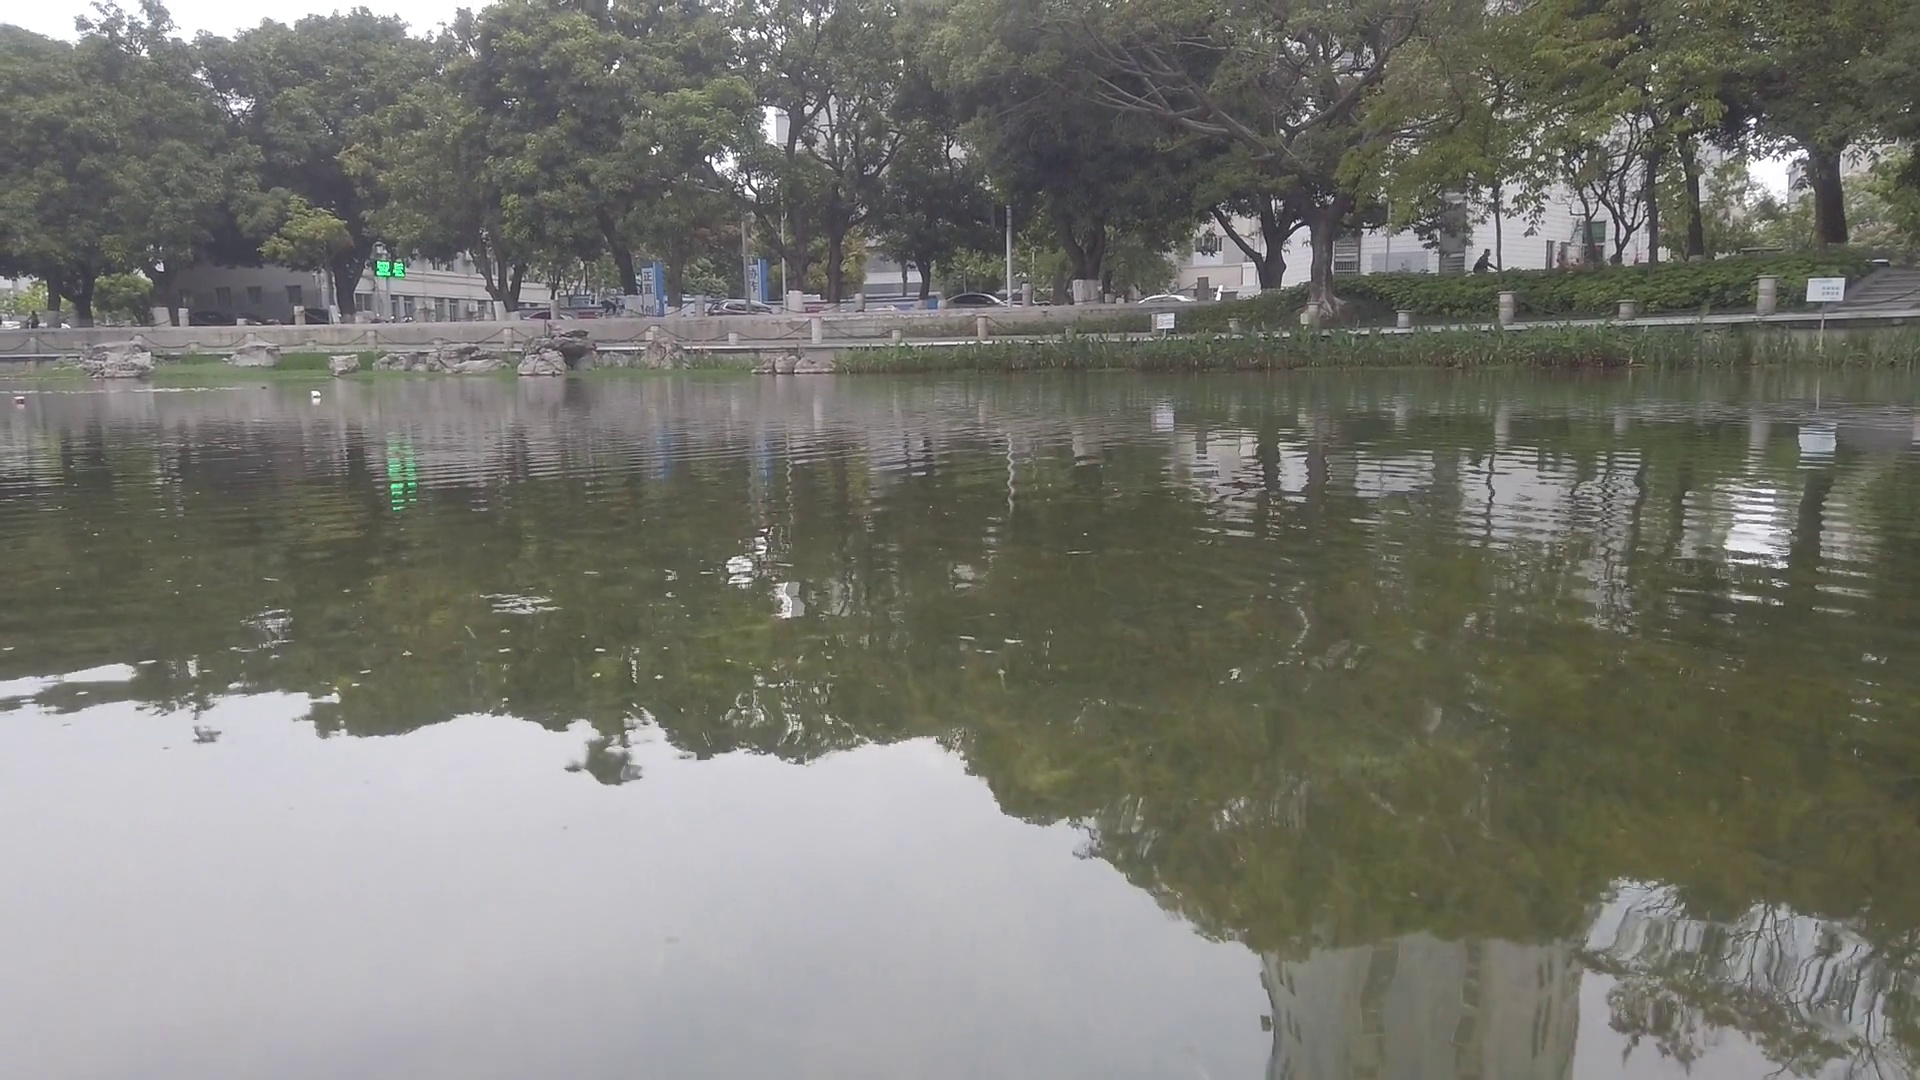carton: (309, 389, 322, 400)
